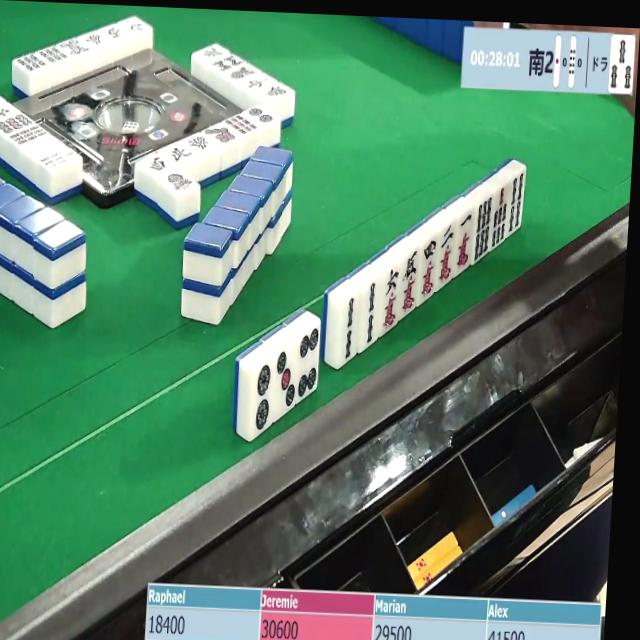1C: (452, 212, 474, 276)
2B: (332, 293, 363, 365), (358, 279, 385, 351)
2C: (436, 223, 459, 287)
2D: (248, 360, 278, 436)
3B: (609, 36, 635, 94)
3D: (270, 344, 298, 415)
4B: (507, 168, 527, 237)
4C: (420, 238, 442, 301)
4D: (295, 321, 321, 403)
5C: (400, 246, 420, 315)
6B: (473, 195, 494, 265), (12, 52, 51, 79), (36, 44, 71, 67)
6C: (381, 266, 406, 334)
7B: (490, 185, 509, 252)
9D: (222, 113, 262, 139)
